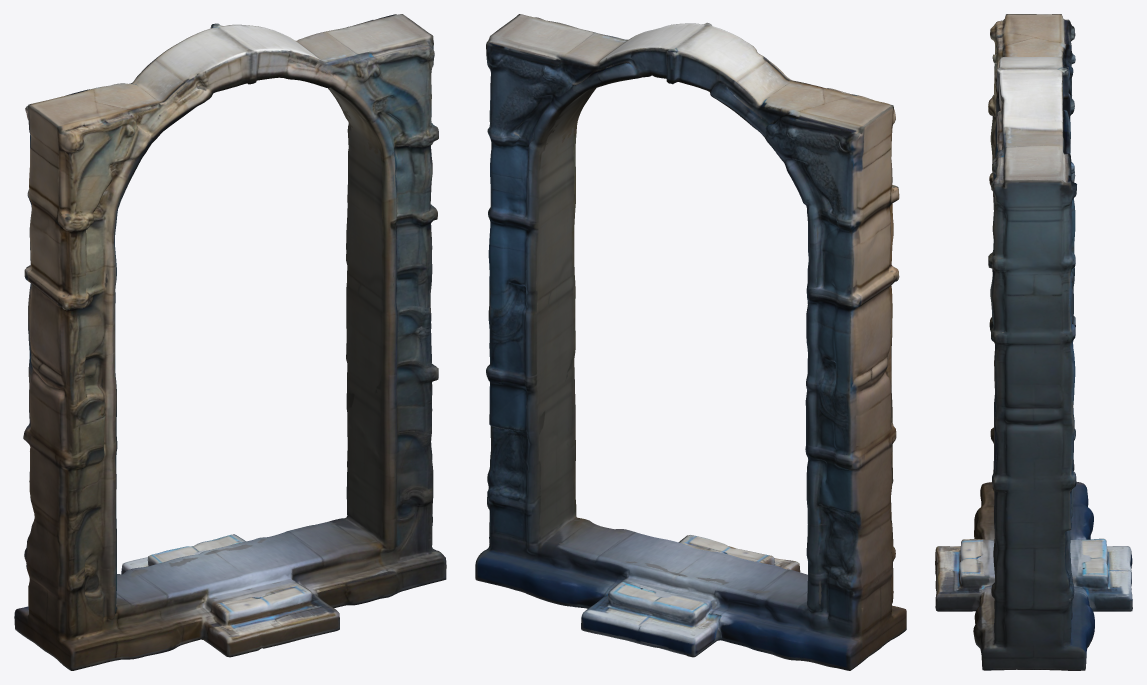
Rendered from doorPortal.glb.
3 views of the same model, side by side, from view 1: azimuth 30°, elevation 25°; view 2: azimuth 150°, elevation 25°; view 3: azimuth 270°, elevation 25° (orthographic). The views are drawn at different scales.
Bounding box in the file's own units: 1.4 × 2.01 × 0.6918.
1 material, 1 textured.
